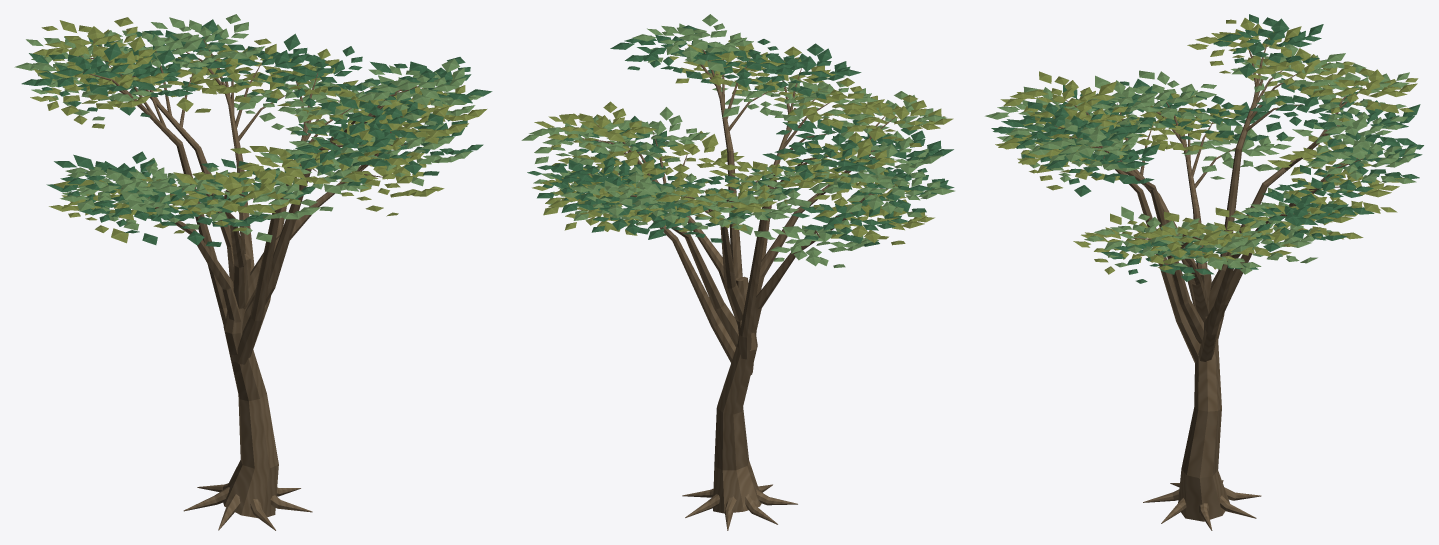
The model's file is AST-BOT-011.glb.
3 renders of one model, left to right at view 1: azimuth 30°, elevation 25°; view 2: azimuth 150°, elevation 25°; view 3: azimuth 270°, elevation 25°, orthographic. The views are drawn at different scales.
Parts seen in each view (by area): view 1: TREE_leaf_jade, TREE_leaf_olive, TREE_leaf_sage, TREE_bark; view 2: TREE_leaf_sage, TREE_leaf_jade, TREE_leaf_olive, TREE_bark; view 3: TREE_leaf_sage, TREE_leaf_olive, TREE_leaf_jade, TREE_bark.
Part boxes in pixels (x1,y1,x2,y2): TREE_leaf_jade: (21,19,492,246); TREE_leaf_olive: (30,17,486,243); TREE_leaf_sage: (14,14,482,242); TREE_bark: (78,39,418,530); TREE_leaf_sage: (521,14,954,267); TREE_leaf_jade: (527,25,954,246); TREE_leaf_olive: (532,37,953,245); TREE_bark: (583,48,896,530); TREE_leaf_sage: (985,44,1417,275); TREE_leaf_olive: (995,18,1418,274); TREE_leaf_jade: (991,14,1423,283); TREE_bark: (1054,38,1364,530).
Size of the model in its own units: 16.33 by 16.53 by 15.82.
Materials: 4 (4 with a texture image).
